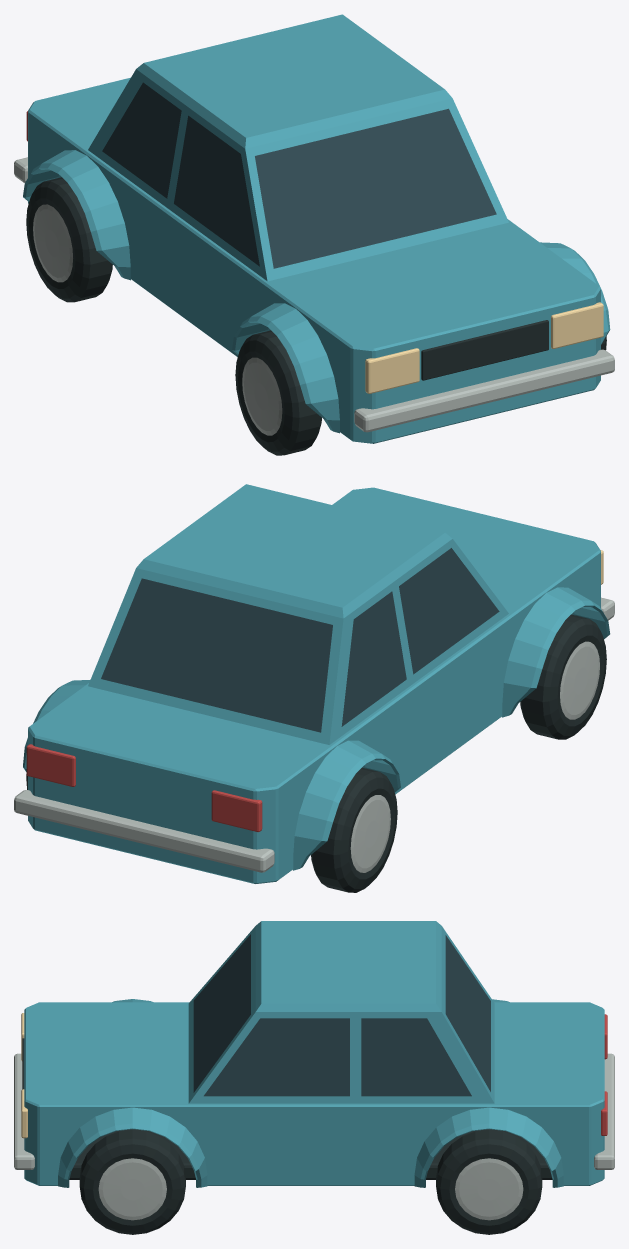
Rendered from asset.glb.
3 renders of one model, top to bottom at view 1: azimuth 30°, elevation 25°; view 2: azimuth 150°, elevation 25°; view 3: azimuth 270°, elevation 25°, orthographic. The views are drawn at different scales.
Visible parts, largest first — view 1: Body_ThreeBox_LowerShell, Cabin_Painted_Pillars_Roof, Glass_Windshield, wheel_rl, wheel_fl, Glass_Front_L, Bumper_Front, Glass_Rear_L, Fender_Shoulder_Front_L, Fender_Shoulder_Rear_L, Grille_Dark, Headlight_L (+2 smaller); view 2: Body_ThreeBox_LowerShell, Cabin_Painted_Pillars_Roof, Glass_RearWindow, wheel_fl, wheel_rl, Glass_Front_L, Bumper_Rear, Glass_Rear_L, Fender_Shoulder_Front_L, Fender_Shoulder_Rear_L, Taillight_L, Taillight_R (+1 smaller); view 3: Body_ThreeBox_LowerShell, Cabin_Painted_Pillars_Roof, Glass_Front_R, wheel_fr, wheel_rr, Glass_Rear_R, Glass_Windshield, Fender_Shoulder_Rear_R, Fender_Shoulder_Front_R, Glass_RearWindow, Underbody_Recessed, Bumper_Rear (+1 smaller).
Boxes of the visible parts, x1,y1,x2,y2 form: Body_ThreeBox_LowerShell: (28,77,600,443); Cabin_Painted_Pillars_Roof: (88,14,508,281); Glass_Windshield: (255,108,496,268); wheel_rl: (26,177,112,302); wheel_fl: (235,330,321,455); Glass_Front_L: (174,115,259,266); Bumper_Front: (354,349,614,432); Glass_Rear_L: (102,82,181,198); Fender_Shoulder_Front_L: (232,303,339,433); Fender_Shoulder_Rear_L: (23,150,130,280); Grille_Dark: (421,320,548,380); Headlight_L: (365,348,419,393); Body_ThreeBox_LowerShell: (28,487,600,883); Cabin_Painted_Pillars_Roof: (88,484,508,744); Glass_RearWindow: (101,578,332,732); wheel_fl: (520,614,606,739); wheel_rl: (311,767,397,892); Glass_Front_L: (399,548,499,674); Bumper_Rear: (14,790,274,872); Glass_Rear_L: (341,591,406,726); Fender_Shoulder_Front_L: (502,587,610,717); Fender_Shoulder_Rear_L: (293,740,400,870); Taillight_L: (211,790,262,832); Taillight_R: (26,744,75,786); Body_ThreeBox_LowerShell: (24,1002,604,1185); Cabin_Painted_Pillars_Roof: (188,921,494,1103); Glass_Front_R: (204,1018,349,1096); wheel_fr: (79,1129,185,1234); wheel_rr: (436,1129,542,1234); Glass_Rear_R: (361,1018,471,1096); Glass_Windshield: (193,934,250,1092); Fender_Shoulder_Rear_R: (414,1107,563,1187); Fender_Shoulder_Front_R: (58,1107,207,1187); Glass_RearWindow: (445,935,490,1091); Underbody_Recessed: (69,1129,552,1179); Bumper_Rear: (594,1053,614,1169).
Size of the model in its own units: 2.25 by 1.65 by 4.3.
